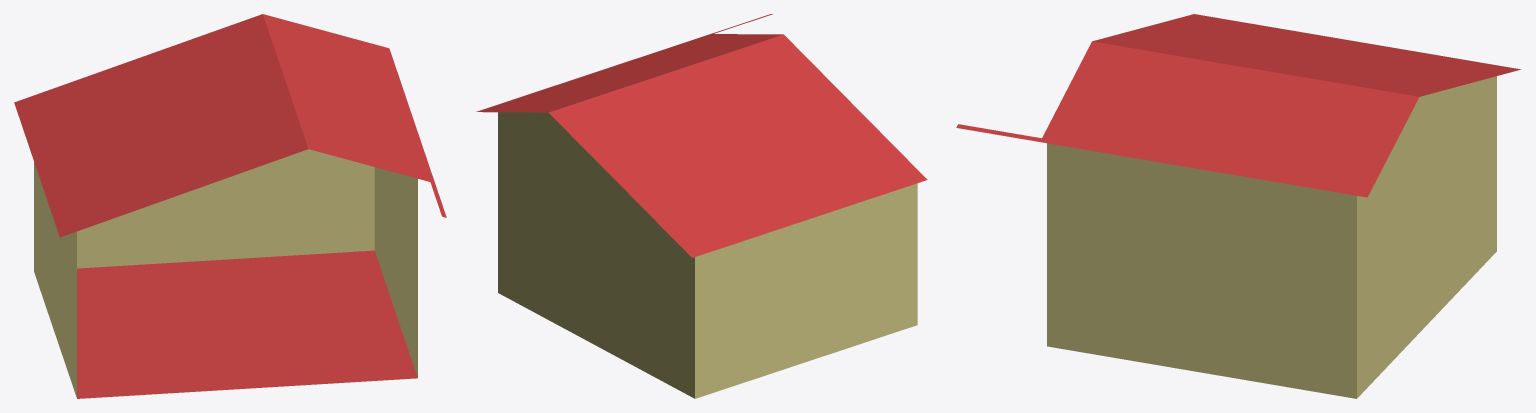
3 views of the same model, side by side, from view 1: azimuth 30°, elevation 25°; view 2: azimuth 150°, elevation 25°; view 3: azimuth 270°, elevation 25° (orthographic). The views are drawn at different scales.
Bounding box in the file's own units: 13.53 × 14.83 × 7.46.
